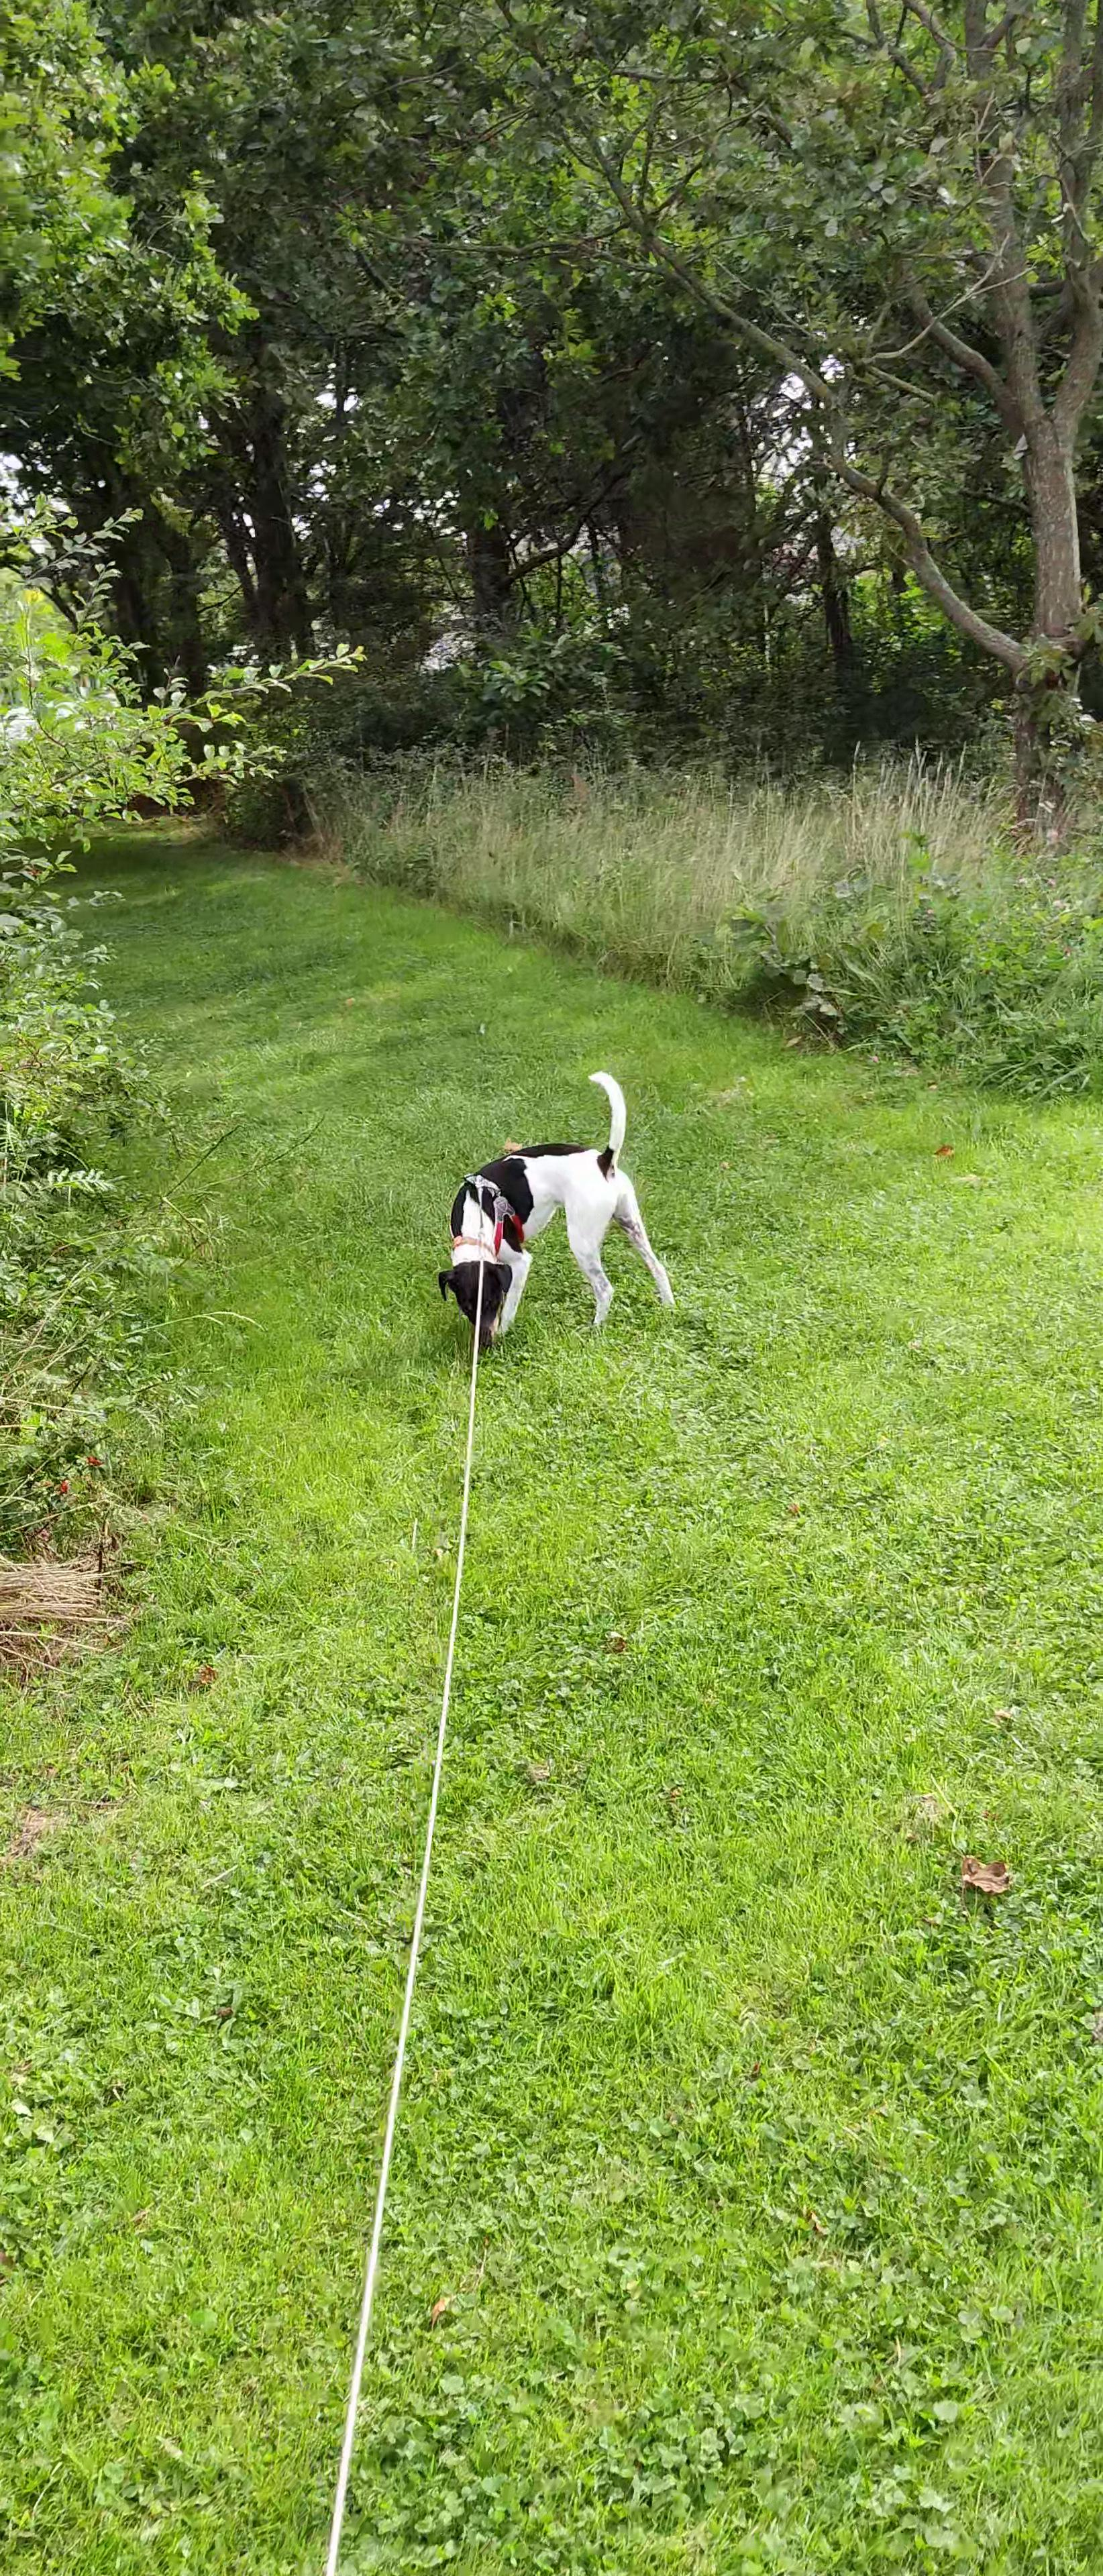Dog: (429, 1058, 681, 1357)
